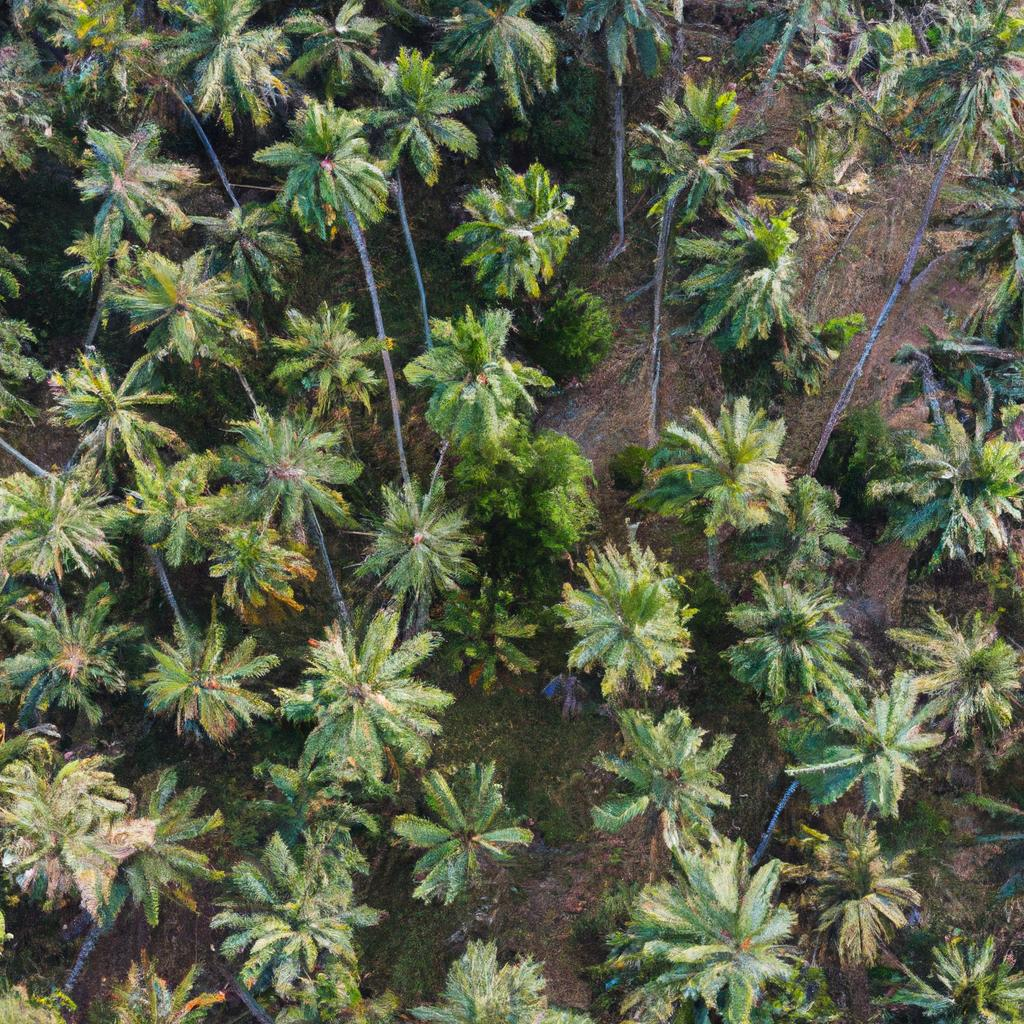coconut_tree: (201, 815, 395, 1008), (620, 829, 817, 1015), (281, 607, 465, 783), (630, 375, 814, 535), (244, 89, 412, 254), (547, 540, 716, 699), (438, 150, 600, 315), (393, 731, 532, 915), (389, 307, 555, 448), (582, 707, 749, 847), (135, 607, 293, 747), (781, 688, 966, 805), (54, 110, 220, 232), (112, 250, 262, 380), (716, 570, 859, 702), (0, 469, 143, 593), (257, 288, 390, 412)
